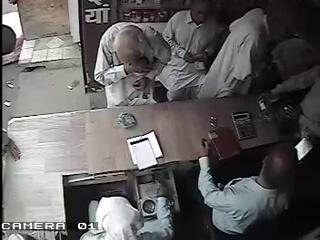Normal: (196, 138, 298, 238), (195, 1, 271, 100), (156, 0, 223, 102), (94, 21, 170, 108)
